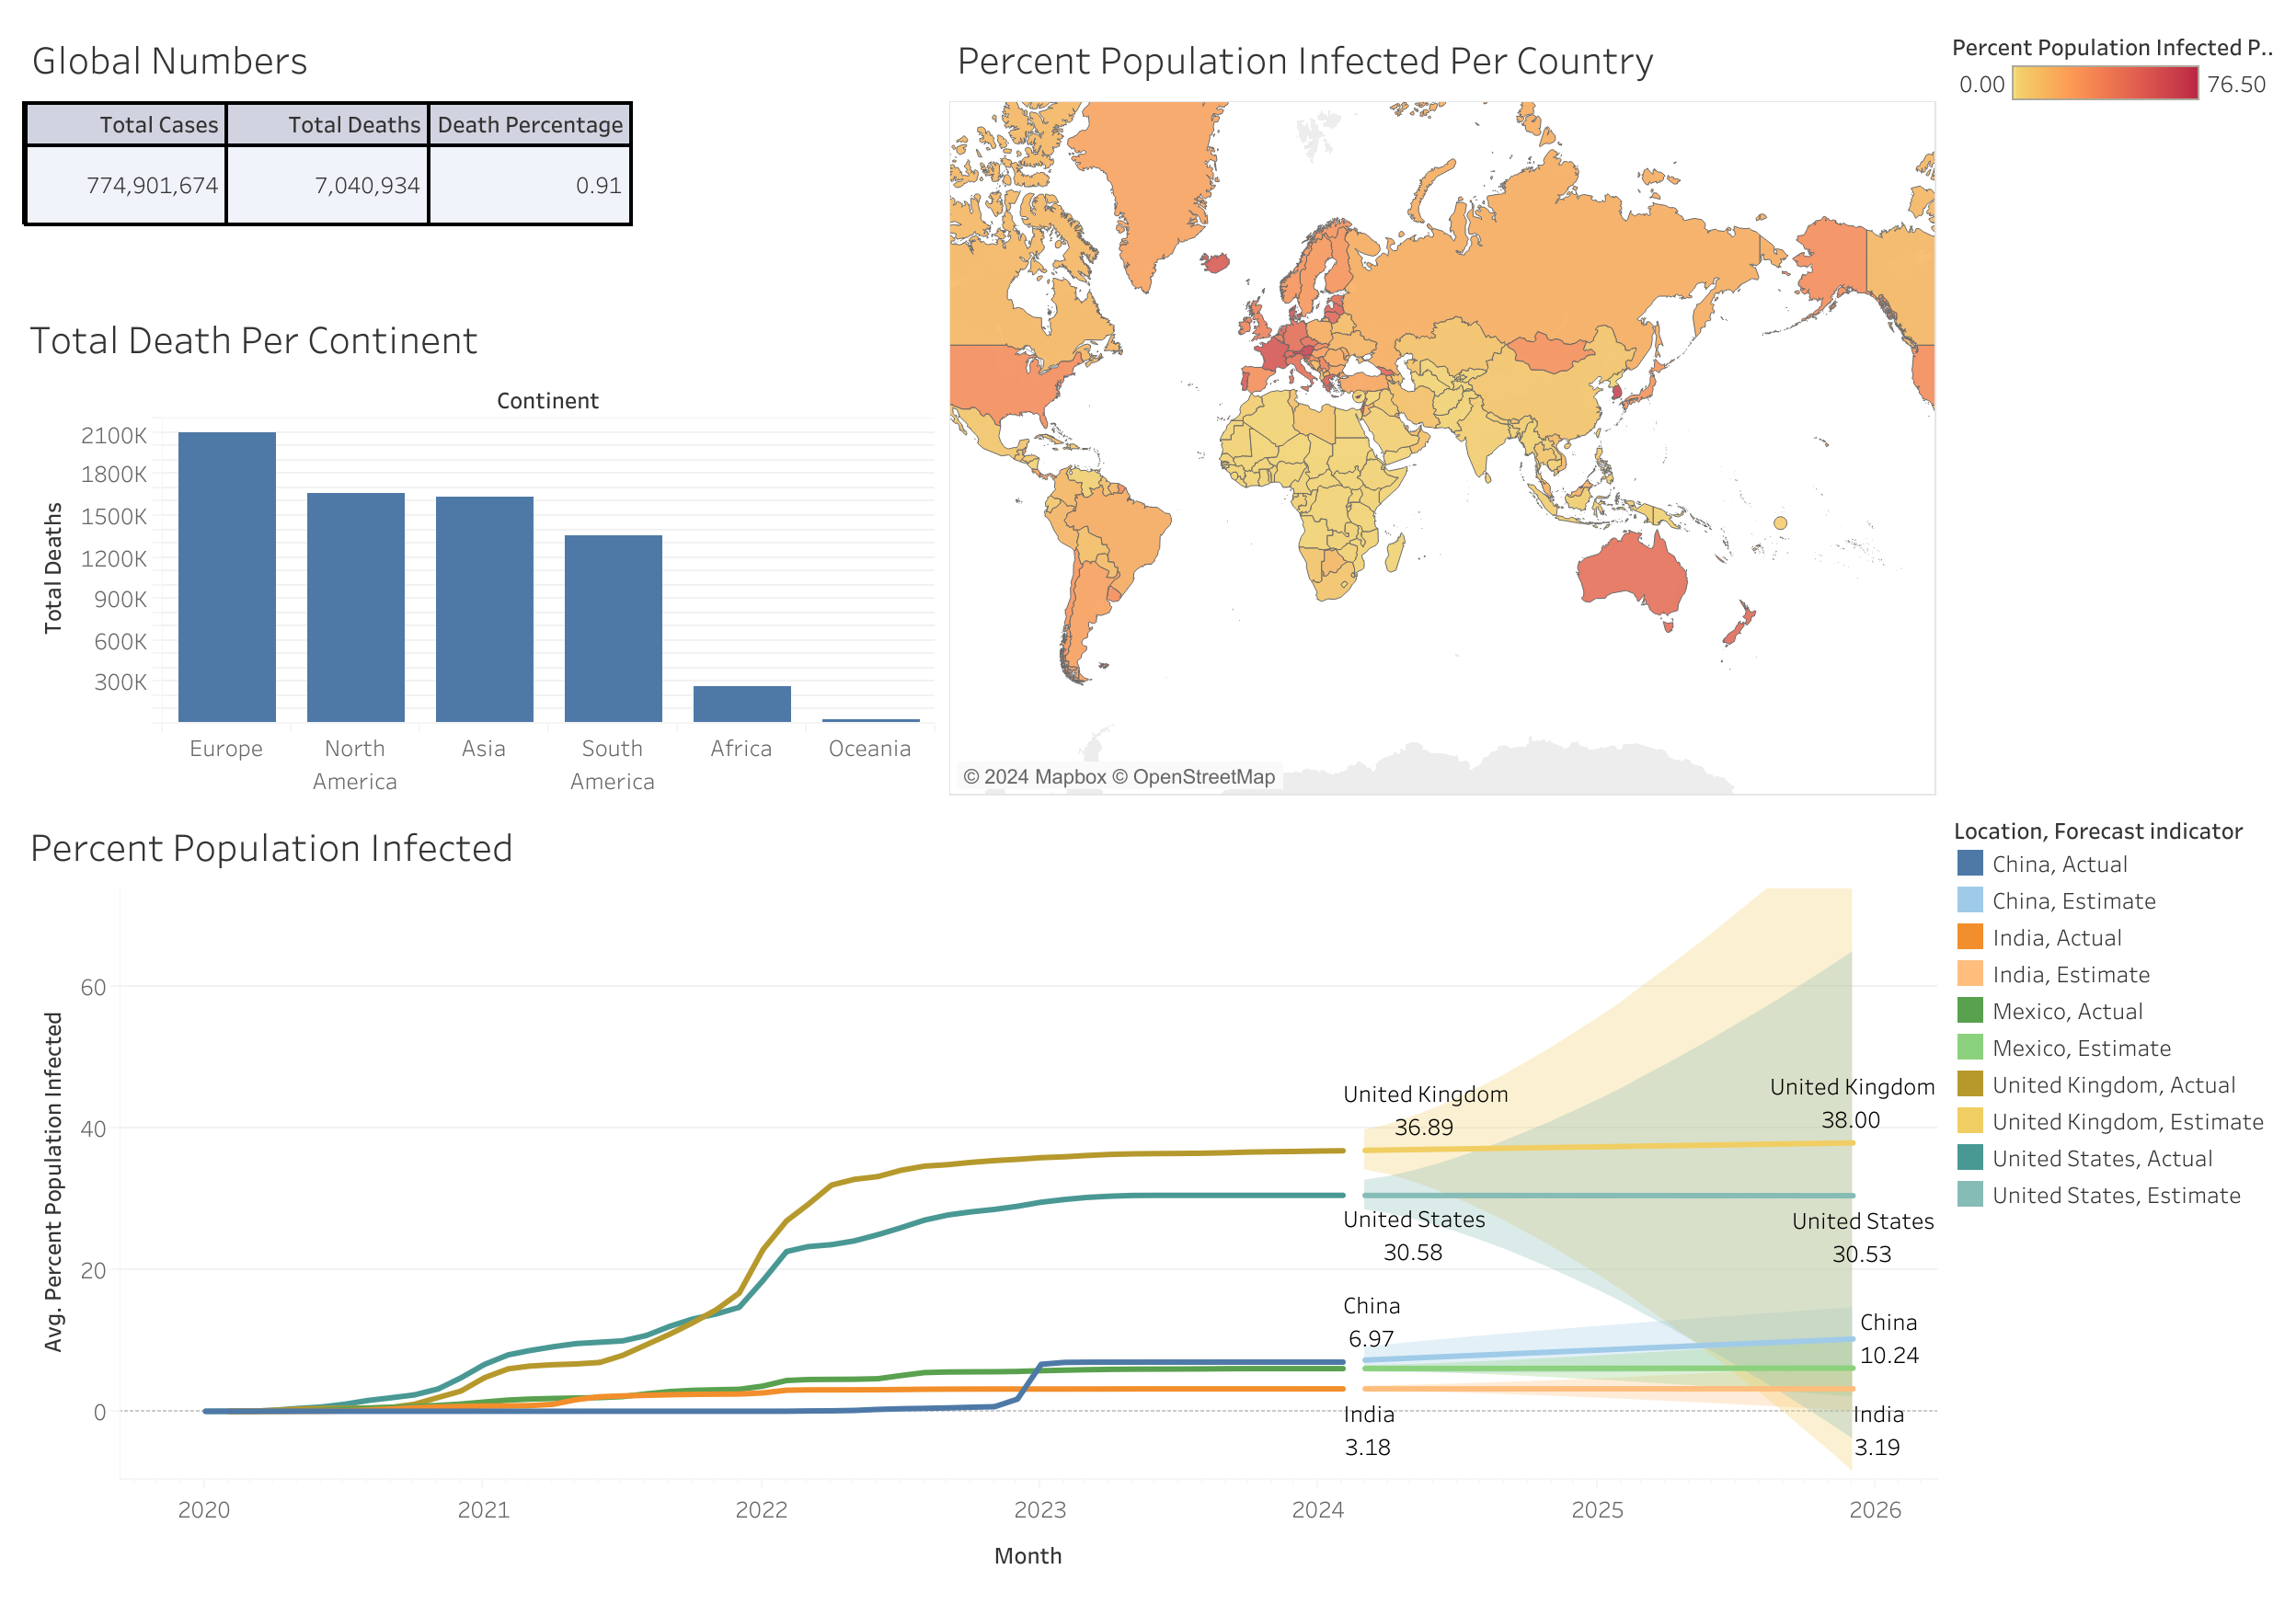

The dashboard page shown, as its layout file describes it:
{"tool":"tableau","page":{"name":"Dashboard 1","canvas":[1000,1000],"units":"permille","ordinal":0},"visuals":[{"type":"worksheet","title":"Sheet 1","mark":"Automatic","box":[7.8,9.7,402.6,173.5]},{"type":"worksheet","title":"Sheet 3","mark":"Automatic","box":[410.4,9.7,434.8,490.3]},{"type":"legend","title":"Sheet 3","param":"[federated.0qy7gic10p6bg40zlr6oc17xf2ac].[sum:PercentPopulationInfected:qk]","box":[845.2,9.7,147,490.3]},{"type":"worksheet","title":"Sheet 2","mark":"Automatic","rows":["total_deaths"],"cols":["location"],"box":[7.8,183.2,402.6,316.8]},{"type":"worksheet","title":"Sheet 4","mark":"Automatic","rows":["PercentPopulationInfected"],"cols":["date"],"box":[7.8,500,837.4,490.3]},{"type":"legend","title":"Sheet 4","param":"[federated.1r12f0a0sgzjsf18kqe5b02pomll].[none:location:nk]\n[federated.1r12f0a0s","box":[845.2,500,147,490.3]}]}

Visuals, with their boxes on the dashboard's canvas, which has no fixed pixel size, in thousandths of its width and height (x1, y1, x2, y2). These are canvas units, not pixel positions in the 2296x1604 screenshot, which may show the page scaled, cropped or inside an application window:
"Sheet 1" worksheet: <bbox>8, 10, 410, 183</bbox>
"Sheet 3" worksheet: <bbox>410, 10, 845, 500</bbox>
"Sheet 3" legend: <bbox>845, 10, 992, 500</bbox>
"Sheet 2" worksheet: <bbox>8, 183, 410, 500</bbox>
"Sheet 4" worksheet: <bbox>8, 500, 845, 990</bbox>
"Sheet 4" legend: <bbox>845, 500, 992, 990</bbox>
